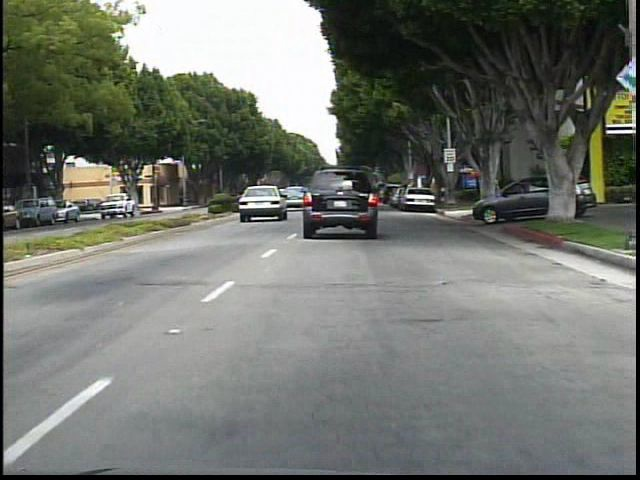person: (484, 170, 502, 209)
